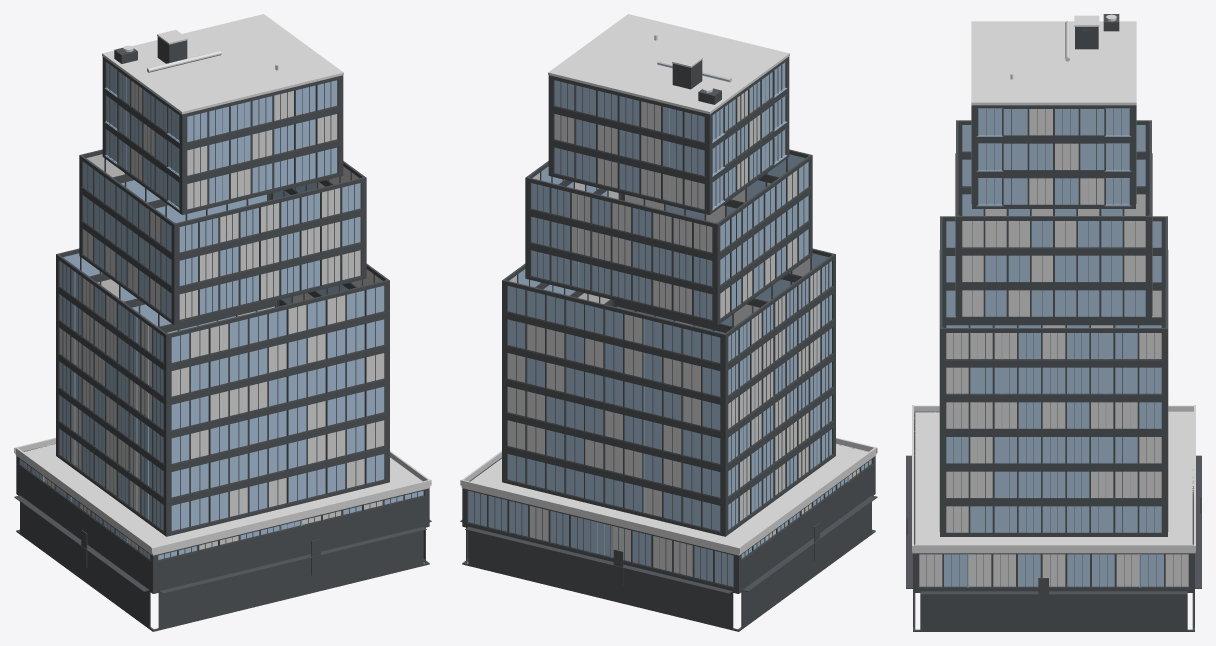
The model's file is Offglass_office_tower_0000002.fbx.
The picture shows the model from 3 angles, left to right: view 1: azimuth 30°, elevation 25°; view 2: azimuth 150°, elevation 25°; view 3: azimuth 270°, elevation 25°; orthographic projection. The views are drawn at different scales.
Visible parts, largest first — view 1: Offglass_office_tower_0000002; view 2: Offglass_office_tower_0000002; view 3: Offglass_office_tower_0000002.
Part boxes in pixels (x1,y1,x2,y2): Offglass_office_tower_0000002: (14, 14, 431, 631); Offglass_office_tower_0000002: (460, 14, 877, 631); Offglass_office_tower_0000002: (906, 14, 1201, 631).
Bounding box in the file's own units: 3178 × 2741 × 5359.
